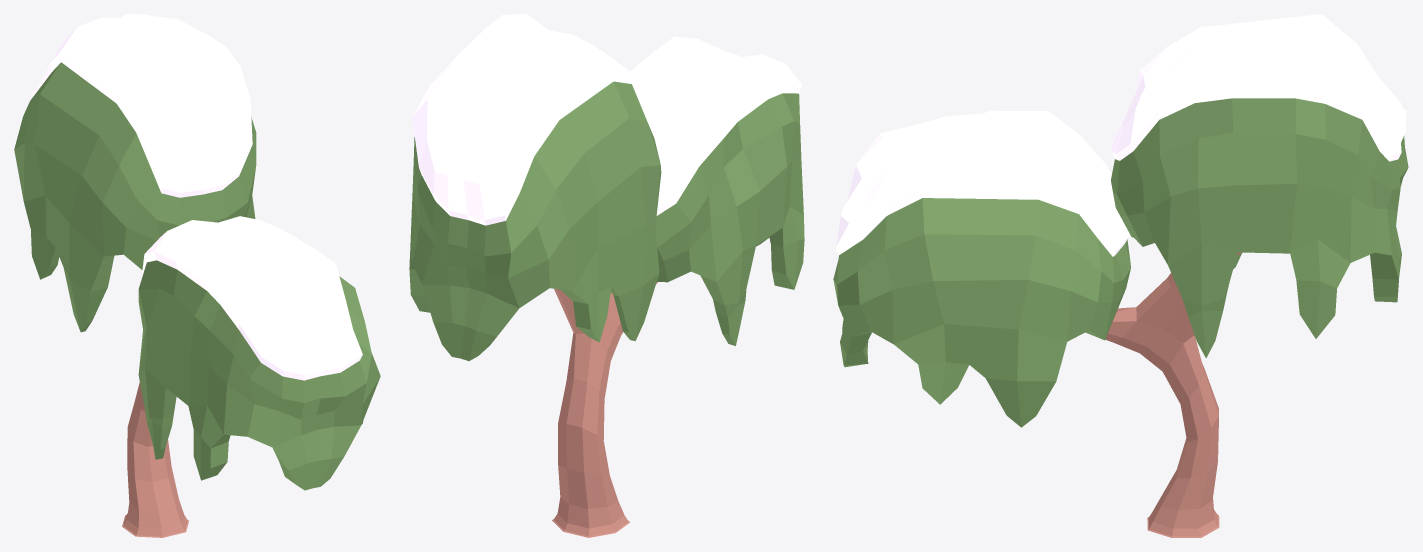
The model's file is Willow_Snow_5.gltf.
3 views of the same model, side by side, from view 1: azimuth 30°, elevation 25°; view 2: azimuth 150°, elevation 25°; view 3: azimuth 270°, elevation 25° (orthographic). The views are drawn at different scales.
Parts seen in each view (by area): view 1: Willow_Snow_5; view 2: Willow_Snow_5; view 3: Willow_Snow_5.
Part boxes in pixels (<box>): Willow_Snow_5: <box>14,14,380,537</box>; Willow_Snow_5: <box>409,14,804,537</box>; Willow_Snow_5: <box>833,14,1408,537</box>.
Bounding box in the file's own units: 101 × 246 × 249.
